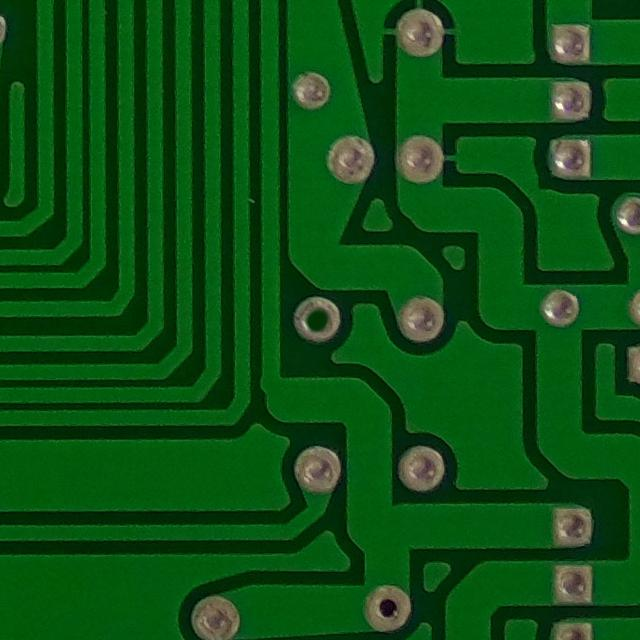missing_hole: (282, 284, 359, 356)
